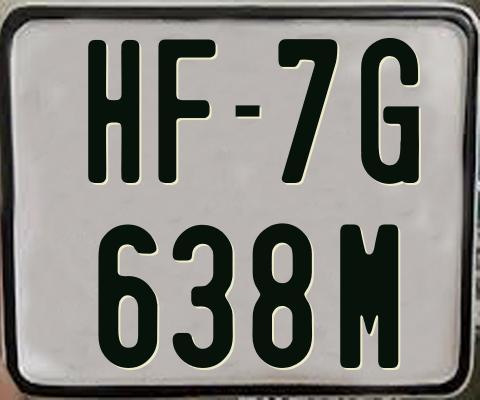3: (171, 222, 234, 368)
6: (97, 222, 156, 369)
7: (275, 37, 334, 186)
8: (251, 222, 314, 372)
F: (157, 38, 218, 185)
G: (361, 35, 421, 183)
H: (87, 40, 144, 184)
M: (339, 224, 401, 368)
